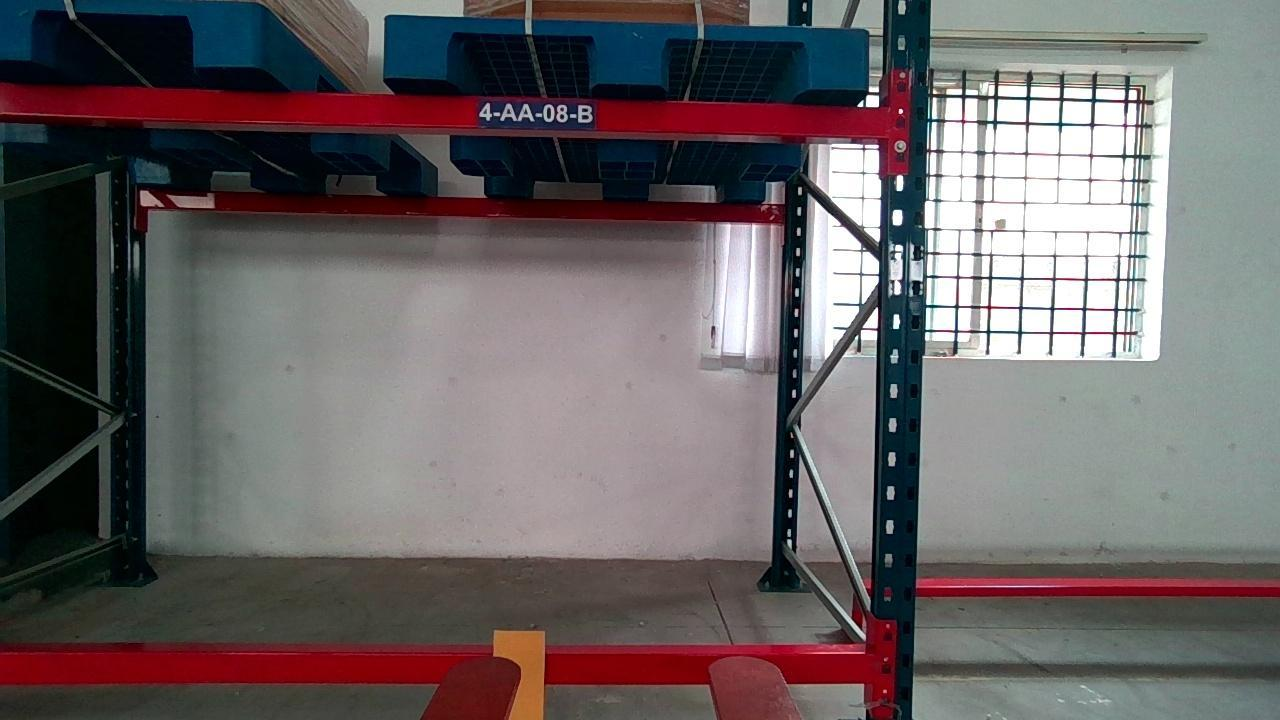h_rack: (1, 82, 892, 136), (1, 652, 870, 684)
orange_strip: (492, 627, 549, 719)
small_pallet: (386, 16, 869, 90), (0, 0, 259, 62)
